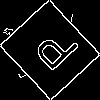P: (25, 25, 81, 80)
